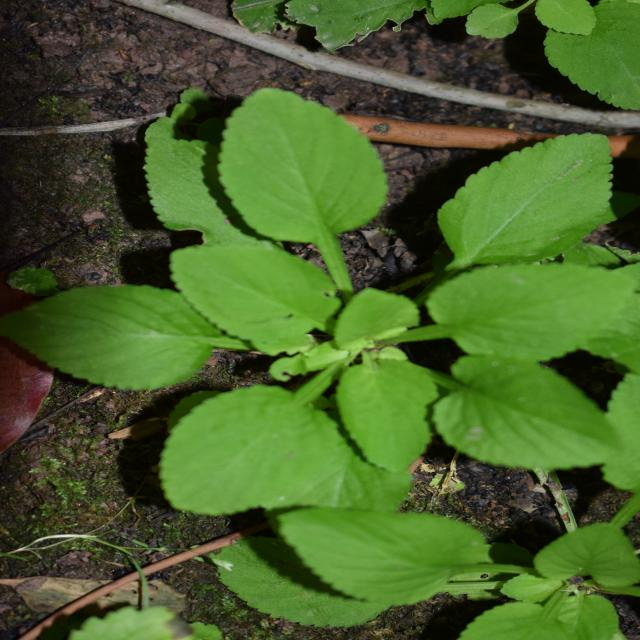Viola: (92, 0, 517, 564)
